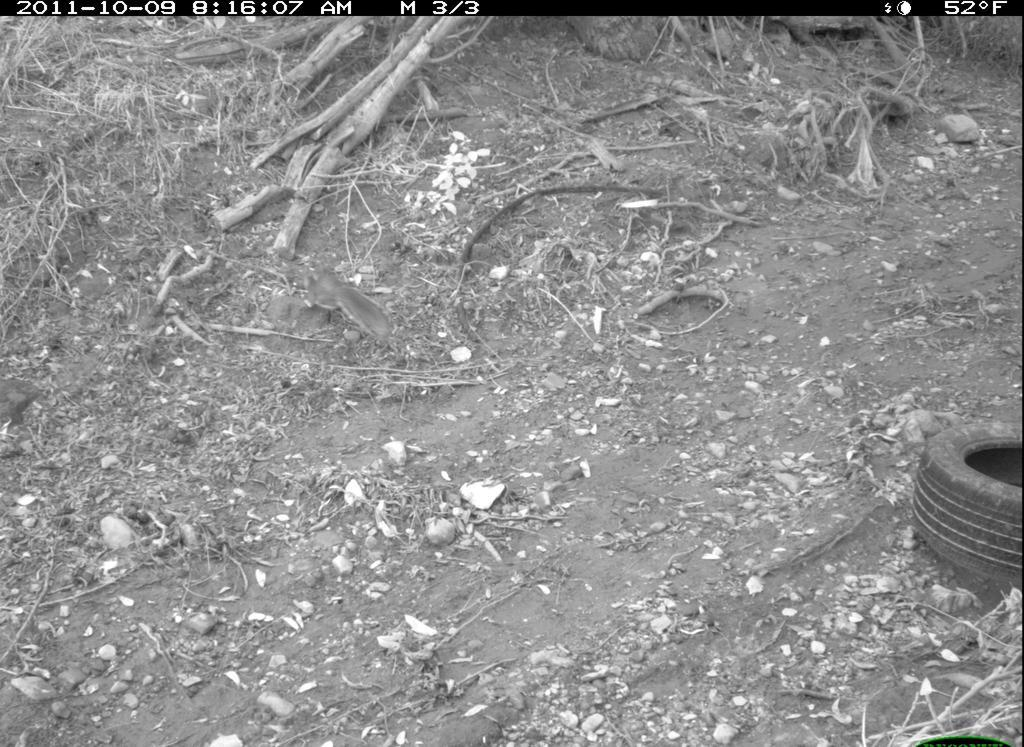squirrel: (289, 257, 402, 349)
